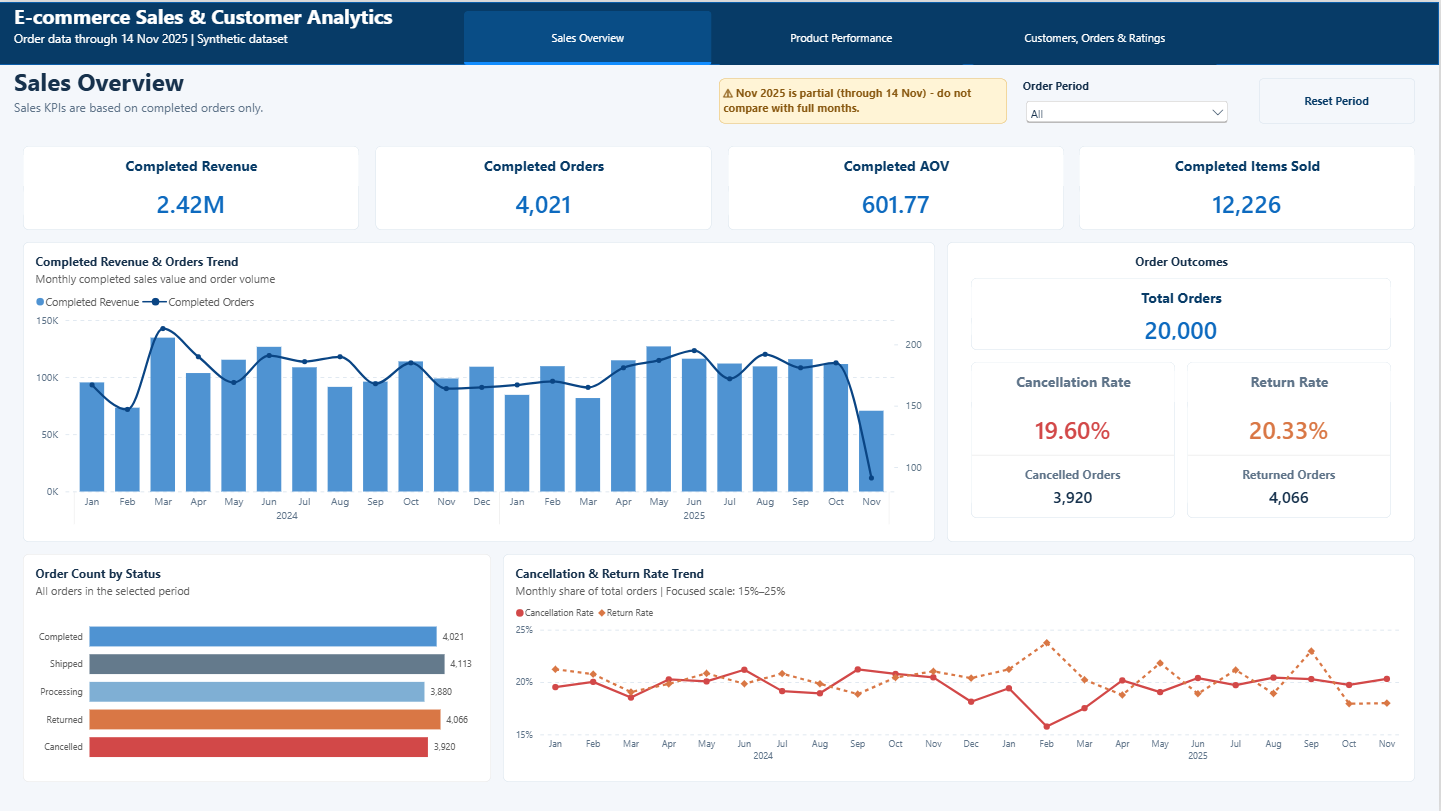

This screenshot's page, from the dashboard's own definition file:
{"tool":"powerbi","page":{"name":"Sales Overview","canvas":[1920,1080],"ordinal":0},"visuals":[{"type":"shape","box":[0,0,1920,84],"z":0},{"type":"textbox","title":"E-commerce Sales & Customer Analytics","box":[0,0,592,64],"z":1000},{"type":"pageNavigator","box":[620,12,1008,72],"z":2000},{"type":"slicer","title":"Order Period","fields":{"Values":["DimDate.Year","DimDate.Quarter"]},"box":[1360,96,288,80],"z":3000},{"type":"actionButton","title":"Reset date","box":[1680,102,208,60],"z":4000},{"type":"textbox","title":"Sales Overview","box":[0,84,848,80],"z":5000},{"type":"cardVisual","title":"Completed Revenue","fields":{"Data":["_Measures.Completed Revenue"]},"box":[32,192,448,112],"z":6000},{"type":"cardVisual","title":"Completed Orders","fields":{"Data":["_Measures.Completed Orders"]},"box":[502,192,448,112],"z":7000},{"type":"cardVisual","title":"Completed AOV","fields":{"Data":["_Measures.Completed AOV"]},"box":[972,192,448,112],"z":8000},{"type":"cardVisual","title":"Completed Items Sold","fields":{"Data":["_Measures.Completed Items Sold"]},"box":[1440,192,448,112],"z":9000},{"type":"lineClusteredColumnComboChart","title":"Completed Revenue & Orders Trend","fields":{"Category":["DimDate.Year","DimDate.Month"],"Y":["_Measures.Completed Revenue"],"Y2":["_Measures.Completed Orders"]},"box":[32,320,1216,400],"z":10000},{"type":"shape","title":"Order Outcomes","box":[1264,320,624,400],"z":11000},{"type":"cardVisual","title":"Total Orders","fields":{"Data":["_Measures.Total Orders"]},"box":[1296,368,560,96],"z":12000},{"type":"cardVisual","title":"Cancellation Rate","fields":{"Data":["_Measures.Cancellation Rate"]},"box":[1296,480,272,208],"z":13000},{"type":"cardVisual","title":"Return Rate","fields":{"Data":["_Measures.Return Rate"]},"box":[1584,480,272,208],"z":14000},{"type":"lineChart","title":"Cancellation & Return Rate Trend","fields":{"Category":["DimDate.Year","DimDate.Month"],"Y":["_Measures.Cancellation Rate","_Measures.Return Rate"]},"box":[672,736,1216,304],"z":15000},{"type":"clusteredBarChart","title":"Order Count by Status","fields":{"Category":["FactOrders.order_status"],"Y":["_Measures.Total Orders"]},"box":[32,736,624,304],"z":16000},{"type":"textbox","title":"⚠ Nov 2025 is partial (through 14 Nov) - do not compare with full months.","box":[960,101,384,60],"z":17000}]}

Visuals, with their boxes in screenshot pixels (x1, y1, x2, y2), scaled from the page's 1920x1080 canvas onto the 1441x811 screenshot:
shape: region(0, 0, 1440, 63)
"E-commerce Sales & Customer Analytics" textbox: region(0, 0, 444, 48)
pageNavigator: region(465, 9, 1222, 63)
"Order Period" slicer: region(1021, 72, 1237, 132)
"Reset date" actionButton: region(1261, 77, 1417, 122)
"Sales Overview" textbox: region(0, 63, 636, 123)
"Completed Revenue" cardVisual: region(24, 144, 360, 228)
"Completed Orders" cardVisual: region(377, 144, 713, 228)
"Completed AOV" cardVisual: region(730, 144, 1066, 228)
"Completed Items Sold" cardVisual: region(1081, 144, 1417, 228)
"Completed Revenue & Orders Trend" lineClusteredColumnComboChart: region(24, 240, 937, 541)
"Order Outcomes" shape: region(949, 240, 1417, 541)
"Total Orders" cardVisual: region(973, 276, 1393, 348)
"Cancellation Rate" cardVisual: region(973, 360, 1177, 517)
"Return Rate" cardVisual: region(1189, 360, 1393, 517)
"Cancellation & Return Rate Trend" lineChart: region(504, 553, 1417, 781)
"Order Count by Status" clusteredBarChart: region(24, 553, 492, 781)
"⚠ Nov 2025 is partial (through 14 Nov) - do not compare with full months." textbox: region(720, 76, 1009, 121)
